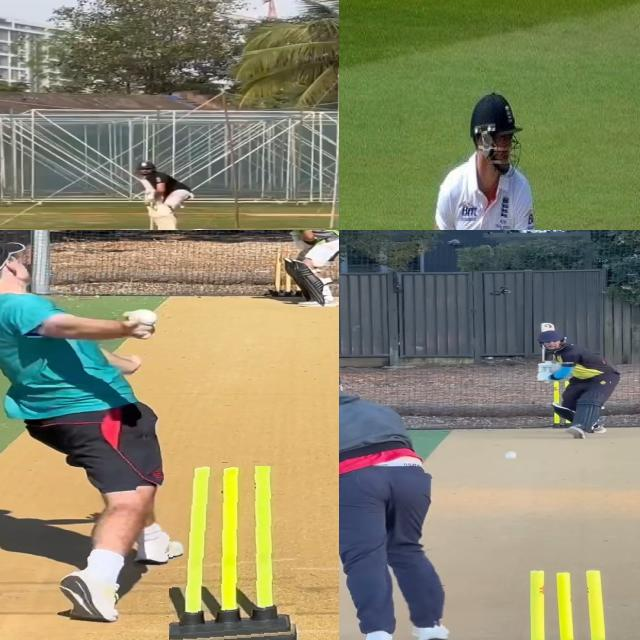Cricket ball: (502, 451, 521, 461)
Stumps: (169, 465, 301, 640), (516, 569, 629, 640)
